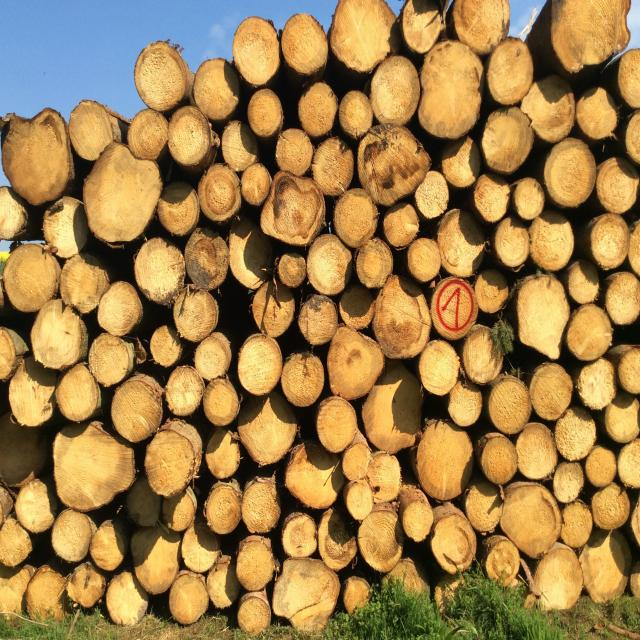wood-log: (81, 145, 159, 245), (51, 424, 134, 512), (0, 111, 71, 204), (418, 43, 480, 141), (550, 0, 632, 73), (360, 364, 424, 454), (358, 126, 428, 204), (412, 422, 474, 503), (370, 277, 428, 361), (380, 559, 441, 638), (519, 274, 575, 360), (331, 0, 396, 72), (272, 557, 338, 626), (499, 482, 558, 558), (263, 175, 326, 245), (238, 393, 300, 464), (327, 328, 386, 402), (0, 243, 60, 313), (28, 302, 86, 371), (143, 426, 197, 498), (544, 140, 597, 211), (283, 443, 339, 510), (372, 55, 423, 128), (522, 74, 577, 141), (439, 210, 491, 280), (481, 110, 536, 176), (7, 354, 58, 425), (112, 376, 165, 444), (0, 411, 48, 485), (134, 42, 186, 109), (133, 237, 184, 305), (231, 16, 279, 87), (582, 531, 628, 603), (485, 38, 534, 105), (535, 542, 582, 608), (66, 100, 116, 161), (231, 220, 276, 287), (44, 197, 94, 257), (357, 509, 403, 574), (282, 13, 330, 75), (234, 331, 281, 394), (429, 512, 475, 576), (194, 60, 241, 122), (434, 276, 481, 338), (454, 0, 510, 52), (170, 106, 216, 168), (185, 227, 230, 290), (530, 207, 575, 270), (308, 236, 355, 296), (56, 365, 103, 424), (61, 255, 108, 314), (334, 190, 380, 248), (568, 302, 614, 360), (462, 327, 508, 385), (13, 479, 62, 533), (175, 286, 223, 341), (528, 363, 573, 420), (489, 376, 533, 434), (97, 282, 144, 336), (313, 136, 356, 195), (158, 180, 201, 238), (88, 333, 134, 387), (417, 339, 461, 395), (280, 352, 324, 408), (518, 421, 560, 479), (199, 163, 241, 221), (256, 281, 298, 339), (315, 397, 359, 452), (598, 159, 640, 216), (402, 0, 447, 53), (586, 211, 627, 269), (236, 536, 279, 590), (242, 477, 283, 533), (24, 564, 65, 620), (576, 87, 619, 140), (106, 572, 148, 626), (554, 407, 596, 461), (52, 510, 94, 562), (465, 478, 504, 534), (298, 83, 338, 137), (441, 138, 483, 189), (575, 357, 616, 408), (298, 296, 339, 346), (128, 111, 169, 161), (168, 572, 207, 624), (183, 524, 222, 576), (165, 365, 204, 416), (125, 476, 164, 527), (219, 120, 258, 171), (604, 270, 640, 324), (204, 481, 240, 535), (193, 331, 232, 380), (593, 481, 632, 530), (479, 435, 517, 485), (474, 174, 512, 223), (275, 128, 313, 176), (203, 377, 241, 425), (338, 89, 374, 139), (358, 238, 394, 288), (281, 512, 319, 559), (402, 489, 435, 543), (204, 429, 241, 477), (68, 562, 105, 610), (495, 218, 530, 268), (89, 522, 124, 572), (486, 538, 520, 589), (605, 394, 640, 443), (472, 268, 509, 314), (414, 170, 449, 218), (339, 284, 377, 328), (368, 452, 402, 501), (382, 205, 420, 248), (250, 89, 284, 137), (560, 500, 594, 548), (237, 594, 273, 639), (565, 261, 601, 305), (448, 381, 483, 426), (407, 238, 442, 282), (513, 177, 547, 221), (150, 326, 185, 368), (0, 186, 27, 240), (241, 162, 273, 206), (553, 460, 586, 502), (0, 519, 30, 565), (585, 446, 617, 488), (618, 48, 640, 109), (342, 440, 374, 480), (344, 481, 374, 521), (342, 572, 371, 613), (619, 438, 640, 489), (618, 345, 640, 393), (276, 254, 305, 290), (0, 326, 17, 382), (0, 573, 23, 614), (625, 112, 640, 166), (629, 220, 640, 274), (0, 486, 13, 528), (631, 502, 640, 548), (630, 566, 640, 600)
